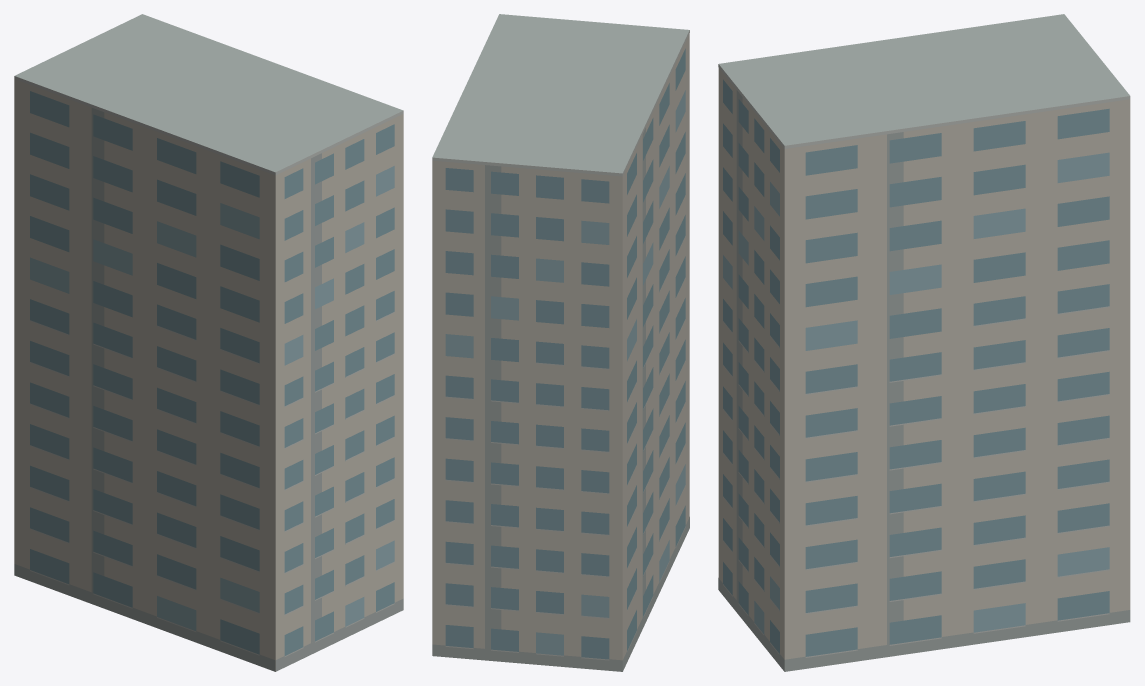
The model's file is residential-fbd2c53e-24b0-44d0-9cf3-fabf1f736ac9.glb.
3 views of the same model, side by side, from view 1: azimuth 30°, elevation 25°; view 2: azimuth 150°, elevation 25°; view 3: azimuth 270°, elevation 25° (orthographic). The views are drawn at different scales.
Parts seen in each view (by area): view 1: residential-fbd2c53e-24b0-44d0-9cf3-fabf1f736ac9.tmp; view 2: residential-fbd2c53e-24b0-44d0-9cf3-fabf1f736ac9.tmp; view 3: residential-fbd2c53e-24b0-44d0-9cf3-fabf1f736ac9.tmp.
Part boxes in pixels (x1=…): residential-fbd2c53e-24b0-44d0-9cf3-fabf1f736ac9.tmp: x1=14, y1=14, x2=403, y2=671; residential-fbd2c53e-24b0-44d0-9cf3-fabf1f736ac9.tmp: x1=432, y1=14, x2=689, y2=671; residential-fbd2c53e-24b0-44d0-9cf3-fabf1f736ac9.tmp: x1=718, y1=14, x2=1130, y2=671.
Bounding box in the file's own units: 20.97 × 39 × 27.69.
